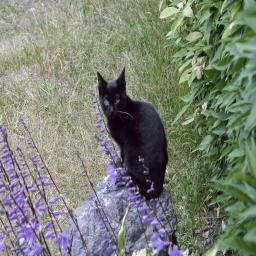catnose: (109, 109, 115, 116)
